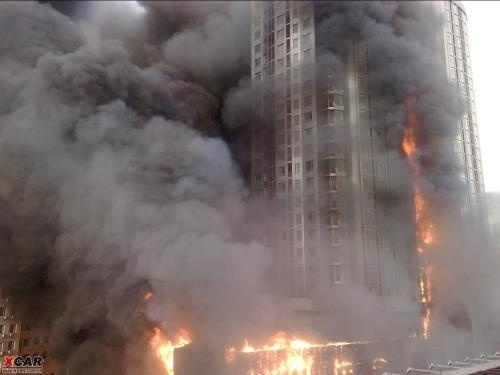fire: (399, 101, 441, 339), (232, 330, 363, 374), (147, 324, 192, 374)
